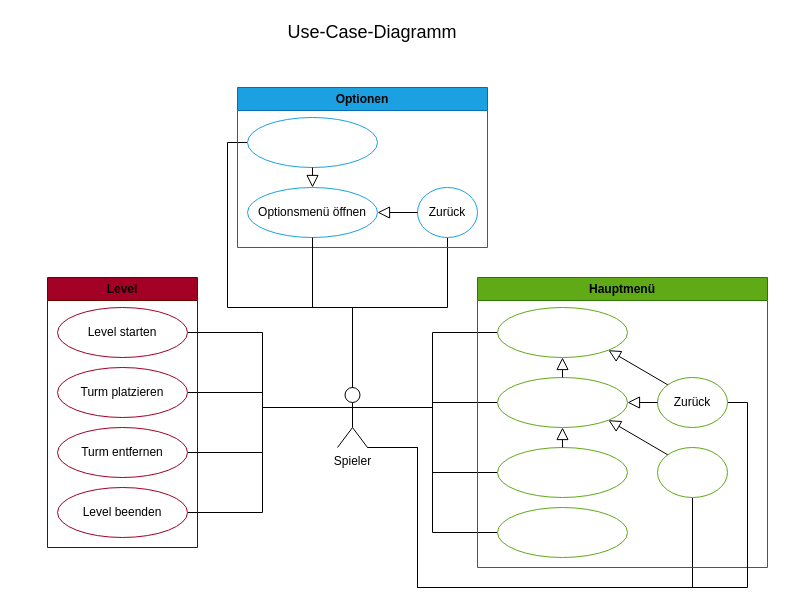
The diagram is 785 pixels wide and 606 high, and some of its shapes have lost their labels. Here are the shapes that lost their labels. From the top down, the centre of each, then its label:
At point 312,142: "Fortschritt zurücksetzen".
At point 562,332: "Levelauswahl öffnen".
At point 562,402: "Level auswählen".
At point 562,472: "Turmtyp auswählen".
At point 692,472: "Level öffnen".
At point 562,532: "Spiel beenden".
